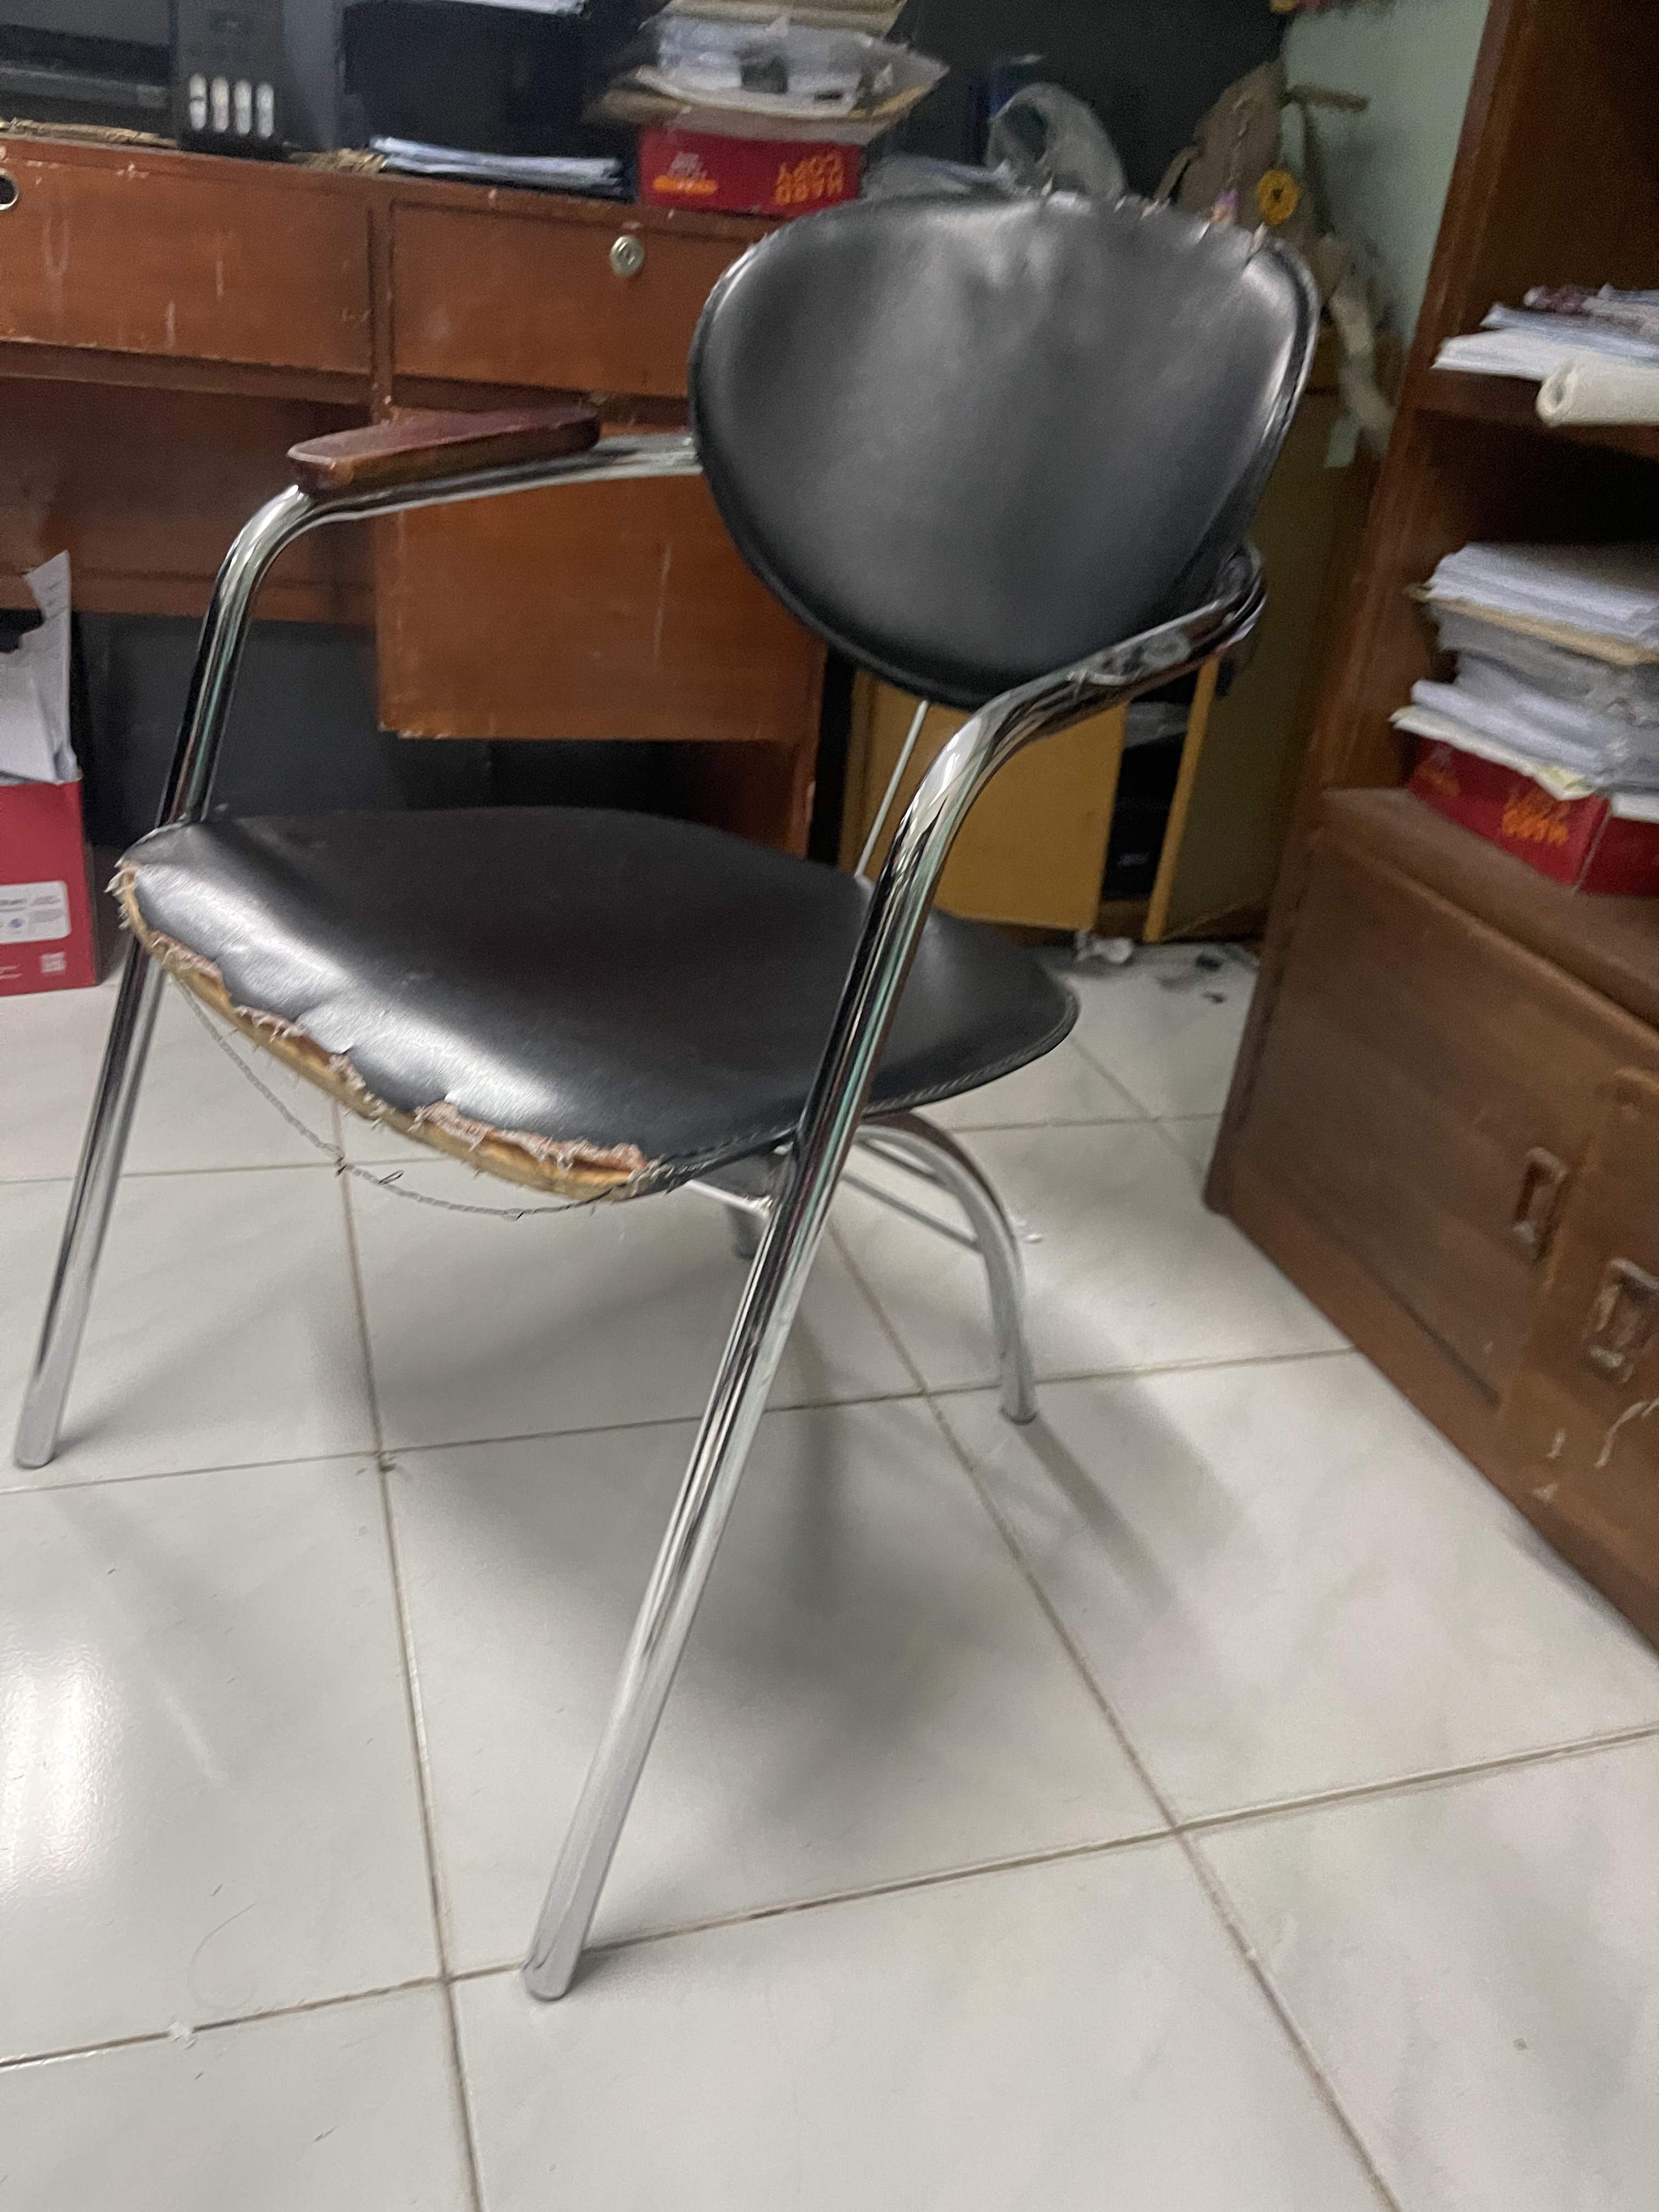chair1: (23, 188, 1321, 2017)
